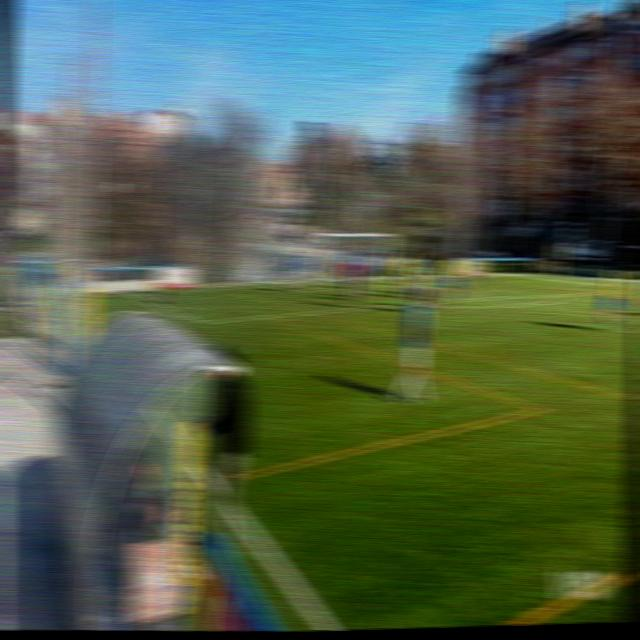bigarea_bottom_inner: (178, 313, 204, 330)
bigarea_bottom_outter: (126, 287, 140, 298)
bigarea_top_outter: (504, 270, 521, 281)
bottom_arc_area_intersection: (390, 299, 408, 311)
corner: (534, 270, 546, 278)
smallarea_bottom_outter: (258, 278, 273, 290)
smallarea_top_inner: (461, 275, 476, 288)
top_arc_area_intersection: (547, 289, 568, 301)
